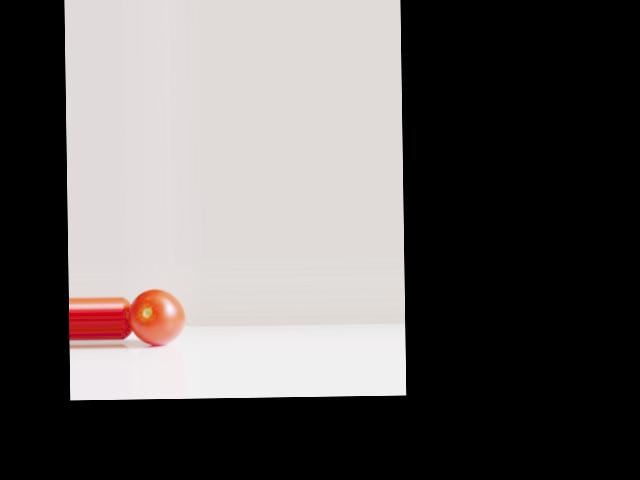tomato: (128, 288, 185, 345)
